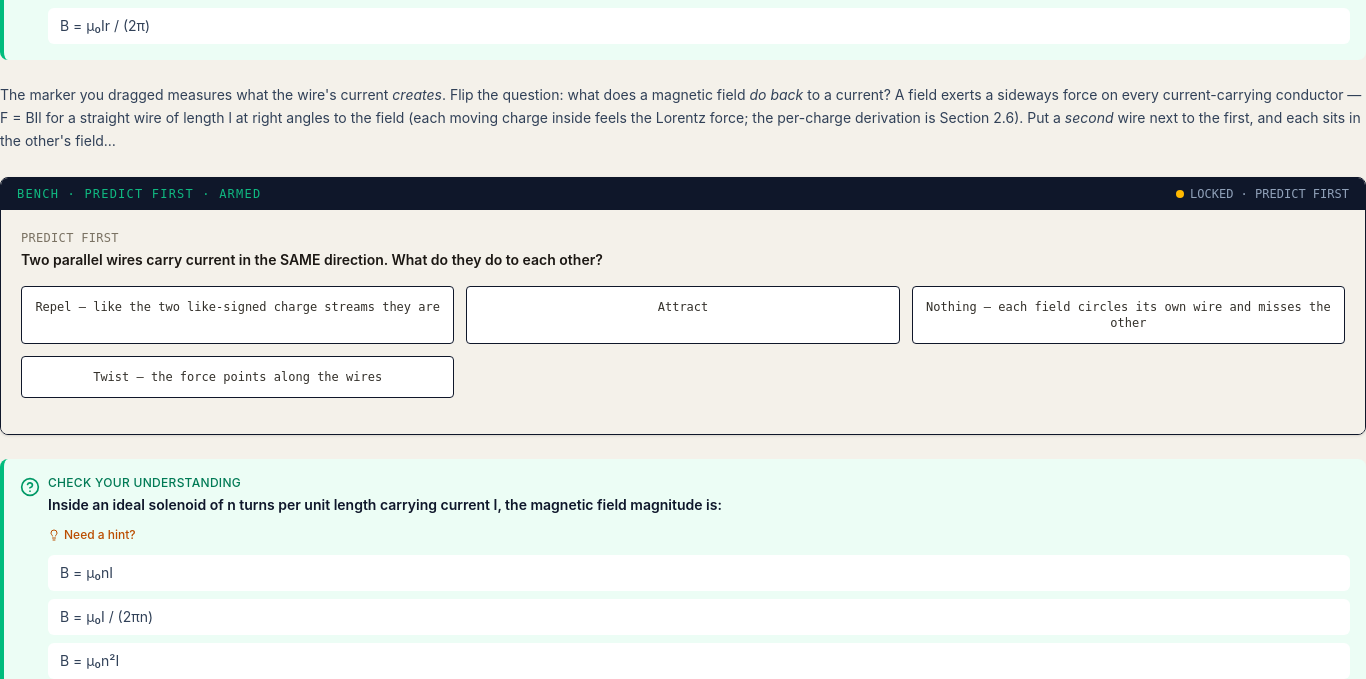
Test: AmpereSection — forces between parallel wires (unit 2D) › CC-A: the parallel-wires ConceptCheck reveals its explanation on the correct answer
(page scrolled)
Click the button "Attract": (683, 314) x1=466 y1=286 x2=900 y2=344
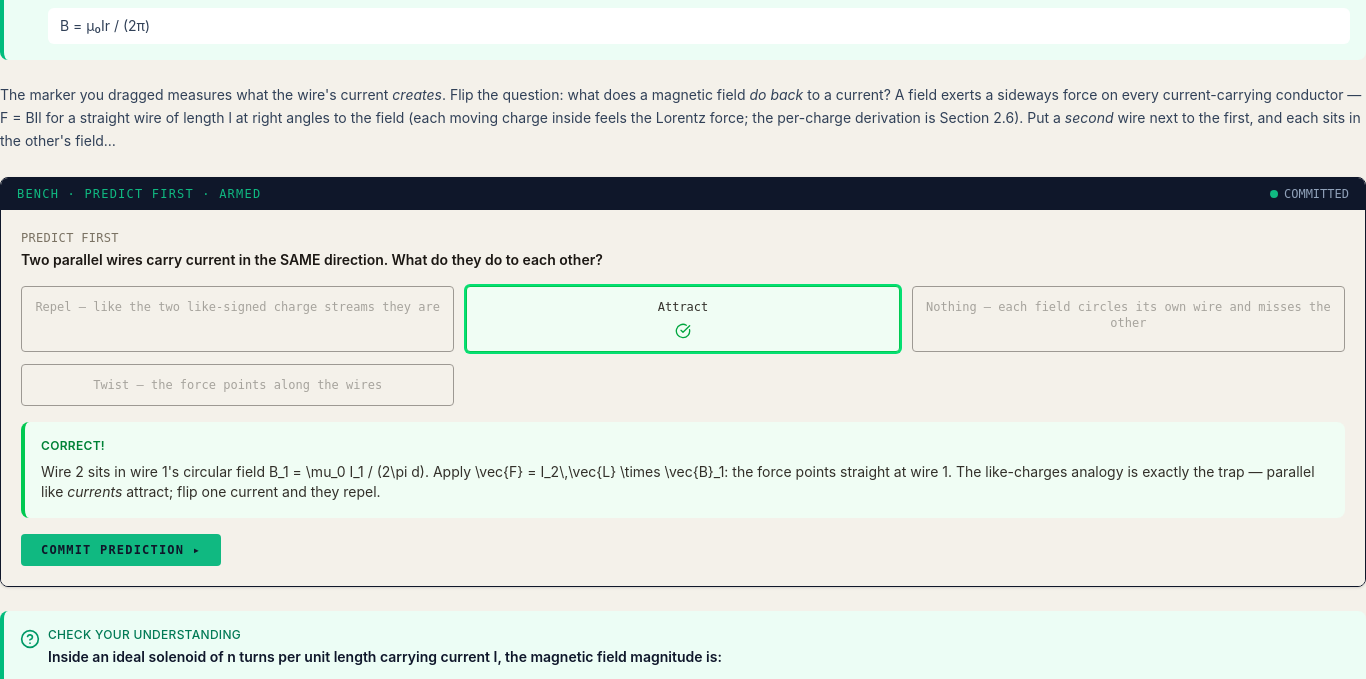
Click the button "COMMIT PREDICTION ▸": (121, 550) x1=21 y1=534 x2=221 y2=566
(page scrolled)
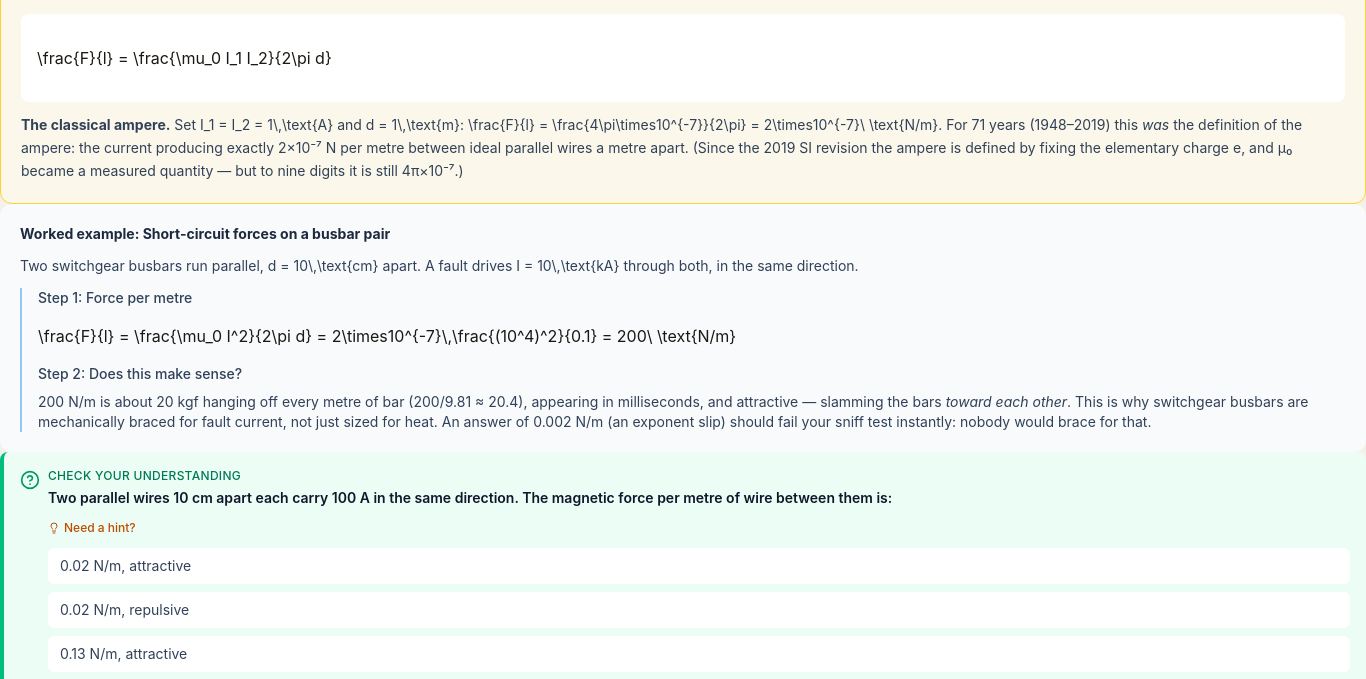
Check: the text "100 A in the same direction" is shown, box x1=48 y1=488 x2=892 y2=506
Click the button "0.02 N/m, attractive": (126, 565) x1=48 y1=548 x2=1350 y2=584
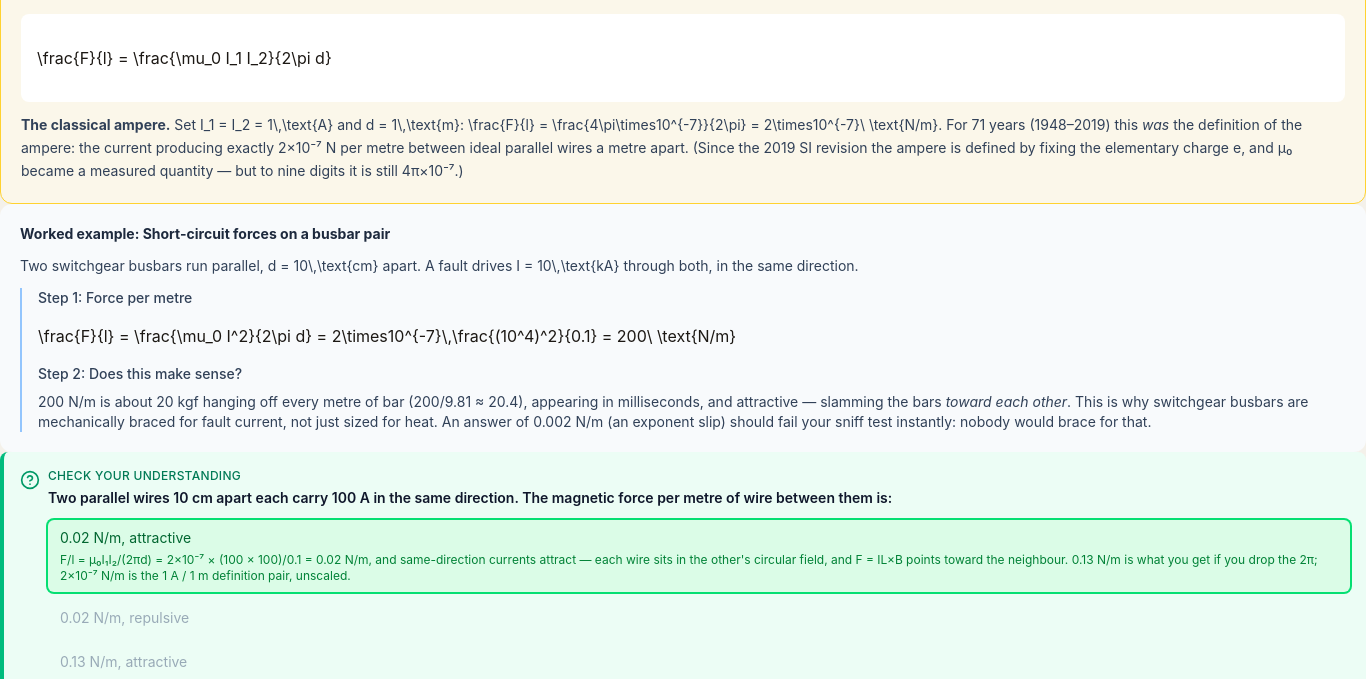
Check: the text "2×10⁻⁷" is shown, box x1=21 y1=116 x2=1302 y2=179
Check: the text "drop the 2π" is shown, box x1=60 y1=552 x2=1318 y2=582
